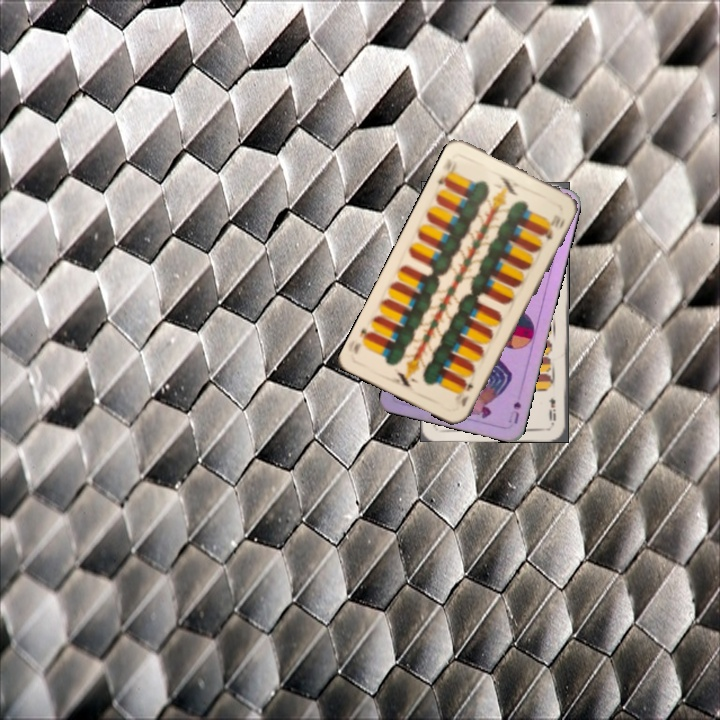E10: (433, 159, 458, 190), (457, 379, 476, 410)
E9: (545, 394, 558, 426)
SU: (504, 398, 524, 427)
